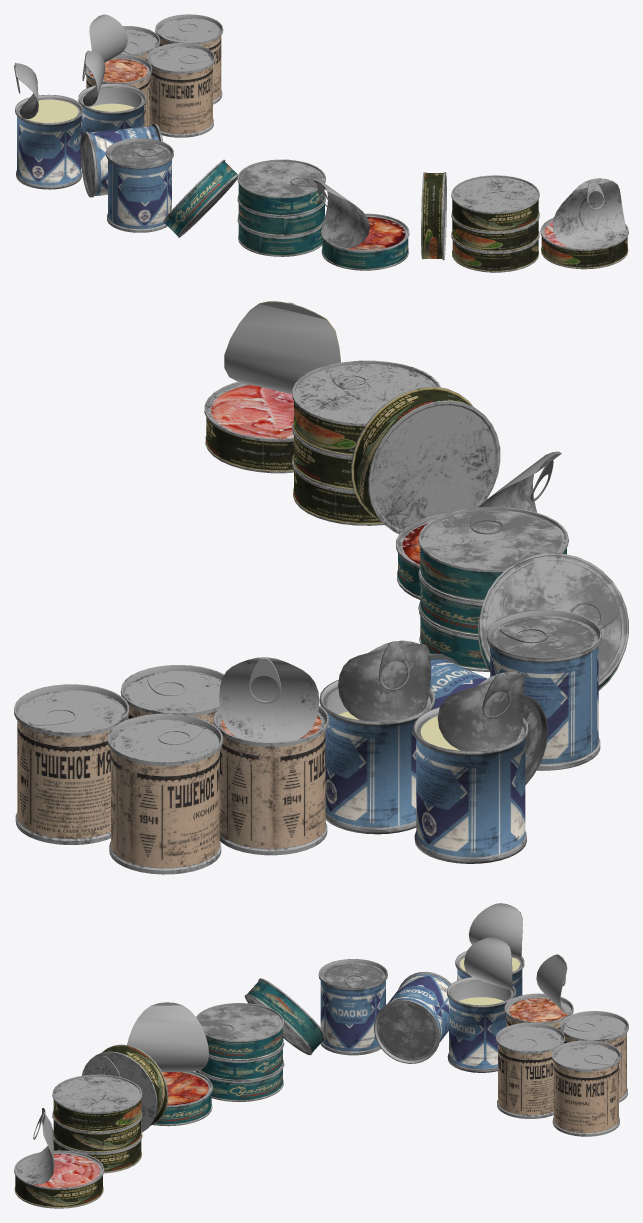
File: Cans.fbx
The picture shows the model from 3 angles, top to bottom: view 1: azimuth 30°, elevation 25°; view 2: azimuth 150°, elevation 25°; view 3: azimuth 270°, elevation 25°; orthographic projection. The views are drawn at different scales.
Visible parts, largest first — view 1: Milk_can_opened.001, Fish01_can_opened, Milk_can, Meat_can, Fish00_can_opened, Fish01_can.002, Fish00_can.002, Milk_can_opened, Meat_can_opened, Milk_can.002, Meat_can.002, Fish00_can.003 (+6 smaller); view 2: Meat_can_opened, Milk_can_opened.001, Milk_can_opened, Meat_can.001, Fish01_can.003, Meat_can.002, Fish01_can_opened, Milk_can, Fish00_can.002, Fish00_can.003, Fish01_can.002, Meat_can (+6 smaller); view 3: Milk_can_opened, Fish00_can_opened, Meat_can.002, Milk_can, Meat_can, Milk_can.002, Fish01_can_opened, Fish01_can.002, Fish00_can.002, Fish01_can.003, Meat_can_opened, Milk_can_opened.001 (+6 smaller).
Part boxes in pixels (x1,y1,x2,y2): Milk_can_opened.001: (14, 62, 82, 189); Fish01_can_opened: (540, 178, 628, 269); Milk_can: (106, 138, 173, 232); Meat_can: (147, 43, 214, 137); Fish00_can_opened: (312, 179, 409, 270); Fish01_can.002: (451, 175, 539, 232); Fish00_can.002: (237, 159, 325, 216); Milk_can_opened: (78, 50, 146, 168); Meat_can_opened: (84, 14, 152, 126); Milk_can.002: (80, 124, 163, 197); Meat_can.002: (155, 14, 223, 104); Fish00_can.003: (162, 159, 237, 237); Meat_can_opened: (213, 657, 328, 855); Milk_can_opened.001: (413, 672, 528, 863); Milk_can_opened: (319, 640, 435, 834); Meat_can.001: (107, 713, 222, 874); Fish01_can.003: (351, 386, 500, 533); Meat_can.002: (14, 684, 129, 844); Fish01_can_opened: (204, 301, 340, 473); Milk_can: (486, 609, 601, 770); Fish00_can.002: (418, 506, 568, 603); Fish00_can.003: (478, 553, 628, 690); Fish01_can.002: (292, 360, 440, 456); Meat_can: (120, 665, 223, 724); Milk_can_opened: (446, 937, 515, 1072); Fish00_can_opened: (127, 1002, 212, 1126); Meat_can.002: (551, 1040, 620, 1136); Milk_can: (318, 959, 387, 1055); Meat_can: (496, 1022, 564, 1118); Milk_can.002: (374, 971, 451, 1063); Fish01_can_opened: (14, 1108, 104, 1208); Fish01_can.002: (52, 1074, 142, 1132); Fish00_can.002: (196, 1003, 284, 1060); Fish01_can.003: (82, 1044, 168, 1132); Meat_can_opened: (504, 954, 573, 1029); Milk_can_opened.001: (455, 903, 524, 997).
Size of the model in its own units: 724 by 198 by 959.
